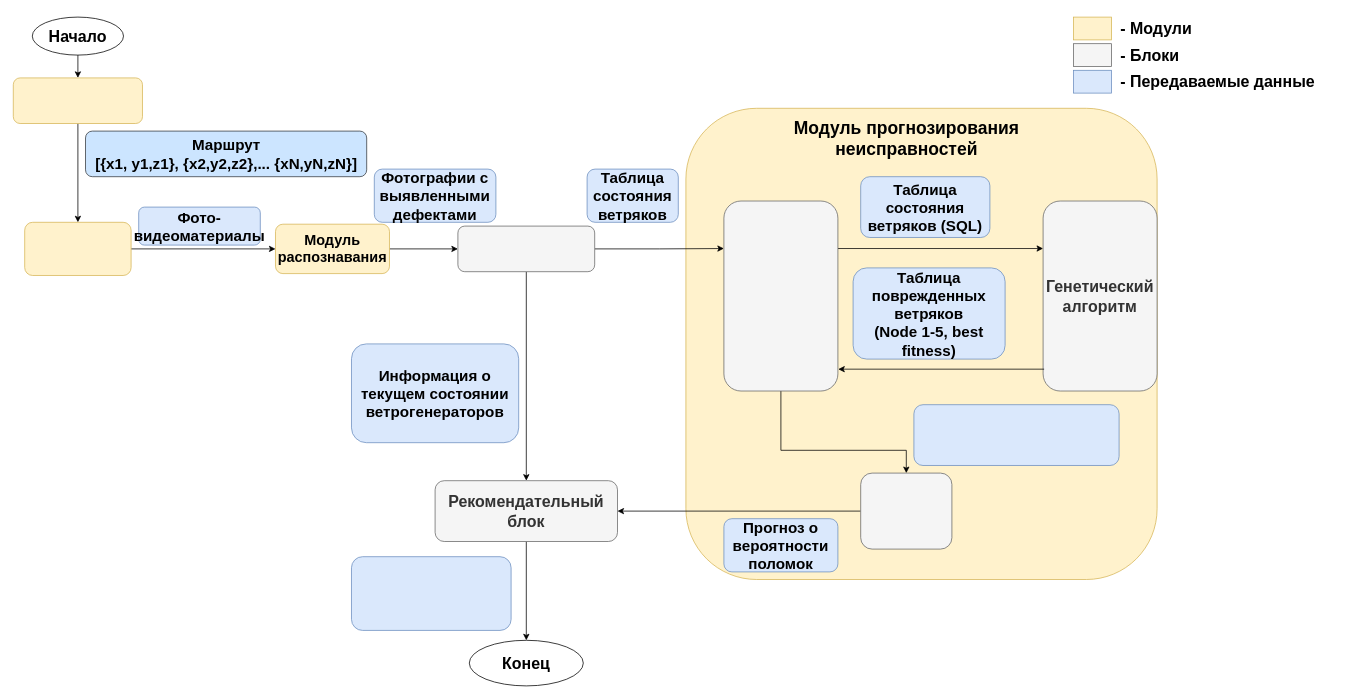
Image size: 1345x699. Some labels were removed from this diagram. Each missing label, with the box of its shape:
База данных: (723, 200, 838, 391)
Беспилотник с камерой: (24, 222, 131, 276)
Блок оценки состояния: (457, 225, 595, 272)
Данные о состояниях ветряков за несколько лет: (913, 404, 1119, 466)
Лист рекомендаций по обслуживанию ветряков: (351, 556, 511, 630)
Модуль маршрутизации: (13, 77, 142, 124)
Нейронная сеть: (860, 472, 952, 549)
